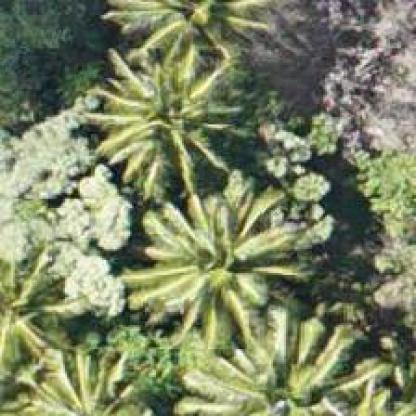coconut tree: (81, 0, 395, 414), (0, 247, 157, 415)
